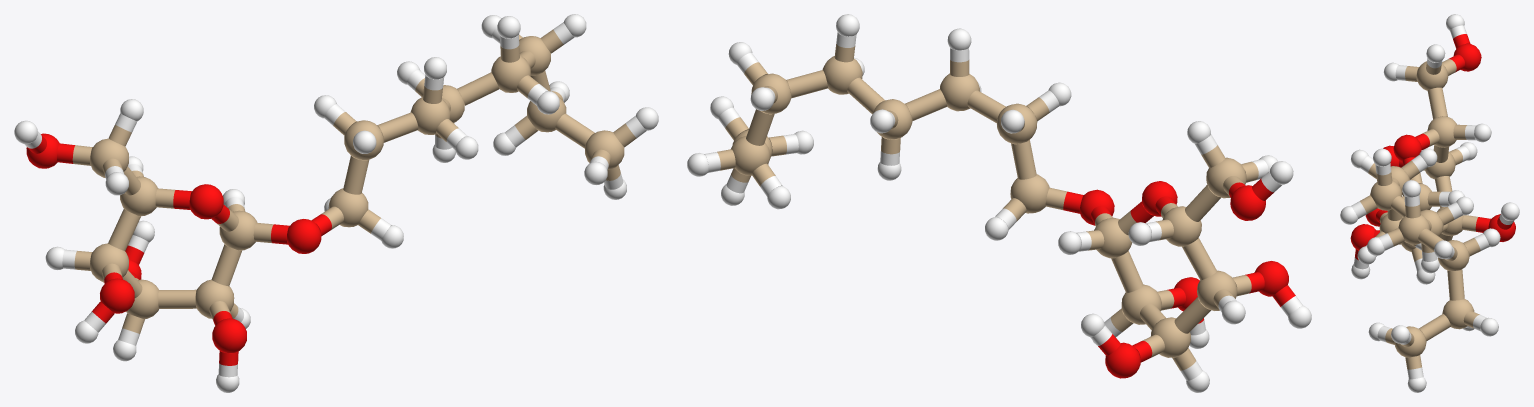
Rendered from Octyl Glucoside.glb.
3 renders of one model, left to right at view 1: azimuth 30°, elevation 25°; view 2: azimuth 150°, elevation 25°; view 3: azimuth 270°, elevation 25°, orthographic. The views are drawn at different scales.
Visible parts, largest first — view 1: primitive_color (×25); view 2: primitive_color (×28); view 3: primitive_color (×62).
Part boxes in pixels (bbox=[...]): primitive_color (×25): bbox=[26, 36, 624, 353]; primitive_color (×28): bbox=[731, 56, 1288, 378]; primitive_color (×62): bbox=[1340, 14, 1519, 392].
Bounding box in the file's own units: 14.75 × 6.39 × 4.75.
